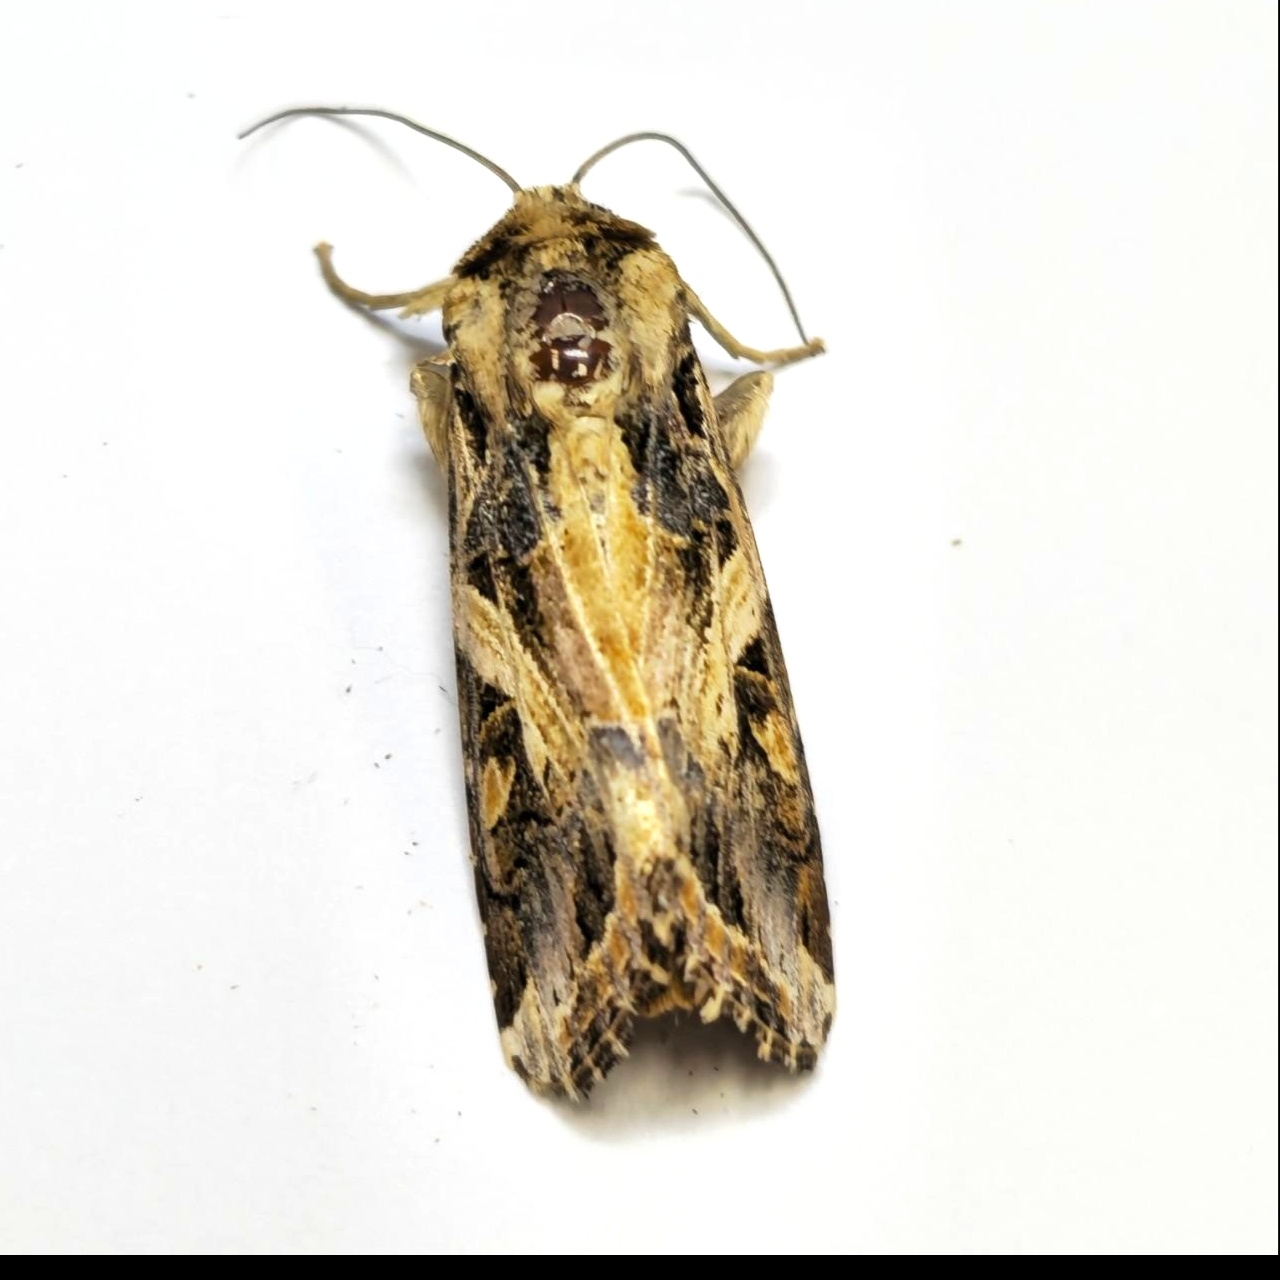Spodoptera litura: (234, 103, 838, 1108)
